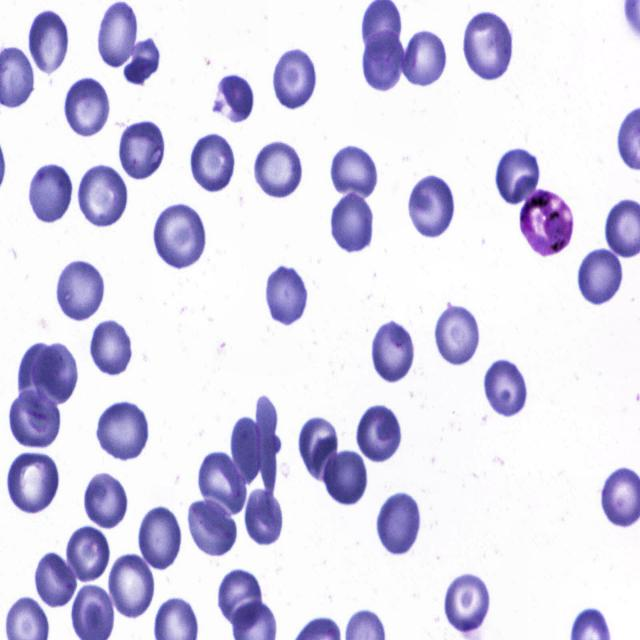difficult: (521, 191, 573, 258)
red blood cell: (462, 8, 516, 82), (152, 203, 208, 270), (94, 397, 151, 462), (54, 257, 107, 324), (78, 164, 132, 229), (369, 313, 416, 387), (6, 450, 60, 514), (407, 172, 457, 241), (250, 134, 304, 196), (136, 503, 184, 572), (186, 497, 239, 557), (355, 400, 403, 466), (108, 552, 156, 618), (17, 342, 65, 408), (198, 453, 247, 516), (96, 2, 140, 71), (362, 28, 408, 94), (115, 120, 165, 180), (272, 44, 316, 112), (190, 131, 238, 193), (329, 190, 375, 254), (10, 388, 60, 446), (28, 162, 74, 225), (82, 469, 130, 529), (376, 490, 421, 554), (434, 304, 482, 364), (65, 77, 112, 138), (444, 572, 490, 634), (33, 342, 79, 404), (265, 265, 310, 328), (218, 565, 262, 629), (330, 144, 380, 200), (577, 247, 625, 304), (27, 11, 69, 76), (495, 146, 541, 205), (483, 358, 528, 418), (297, 418, 339, 481), (90, 319, 136, 376), (402, 29, 448, 86), (244, 488, 285, 549), (34, 552, 78, 608), (66, 526, 110, 582), (323, 451, 367, 506), (210, 74, 256, 123), (230, 416, 260, 486), (257, 396, 278, 496), (123, 38, 160, 86)
